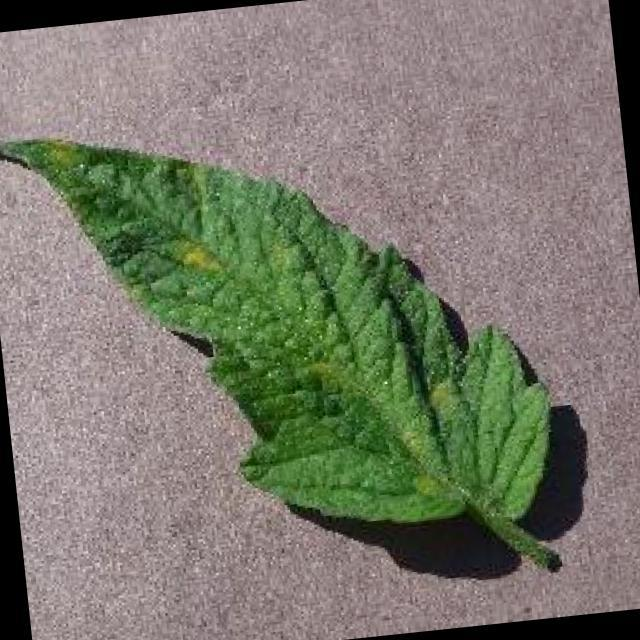Tomato mold leaf: (0, 83, 562, 566)
